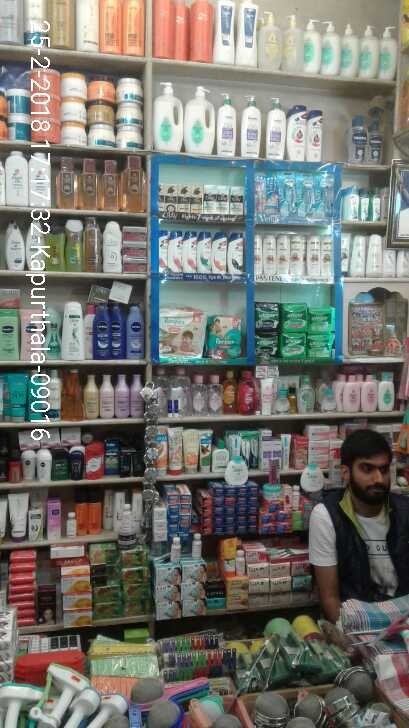venus: (256, 173, 280, 212), (297, 175, 318, 214), (318, 174, 336, 214), (280, 175, 297, 212)
